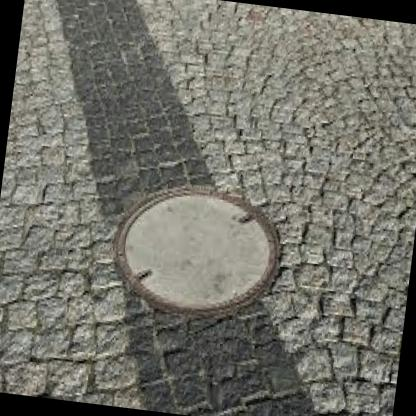manholes: (84, 142, 328, 367)
